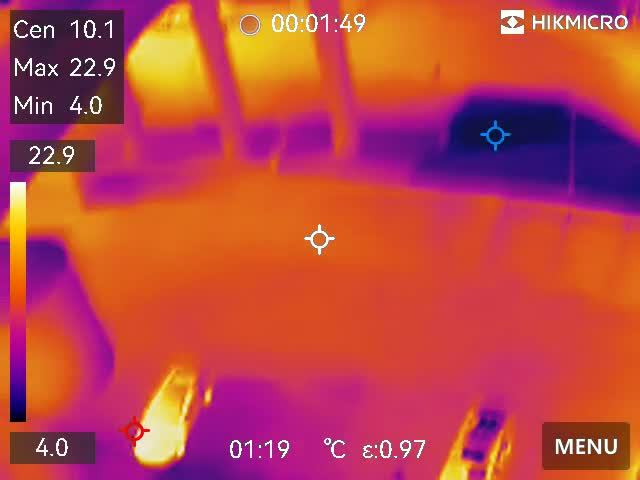vehicle: (130, 350, 213, 467), (431, 396, 520, 480)
